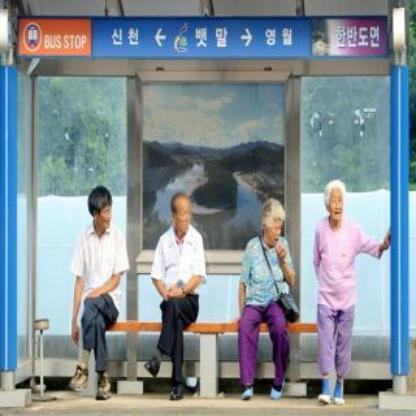person: (304, 175, 396, 409), (229, 193, 305, 405), (142, 188, 212, 401), (66, 181, 128, 407)
